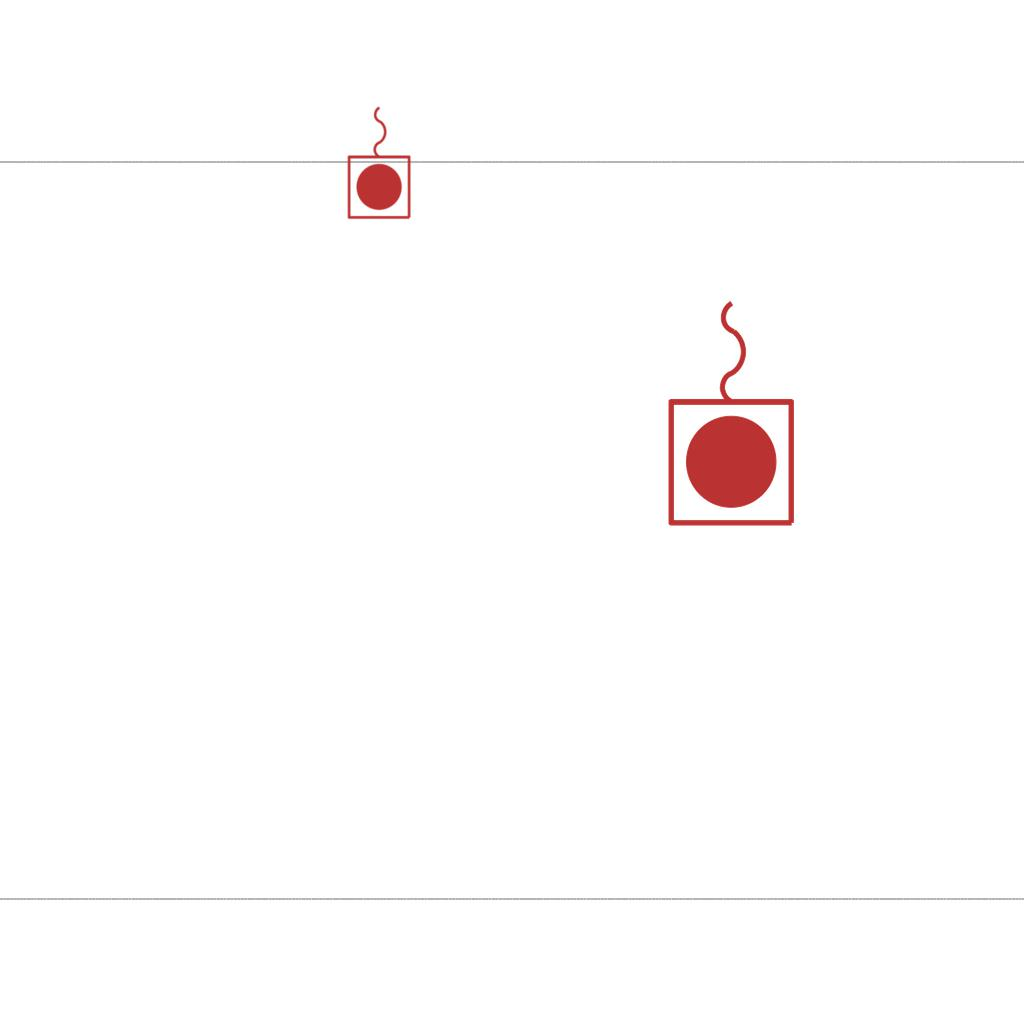Zugtaster: (661, 290, 805, 534), (344, 101, 416, 223)
